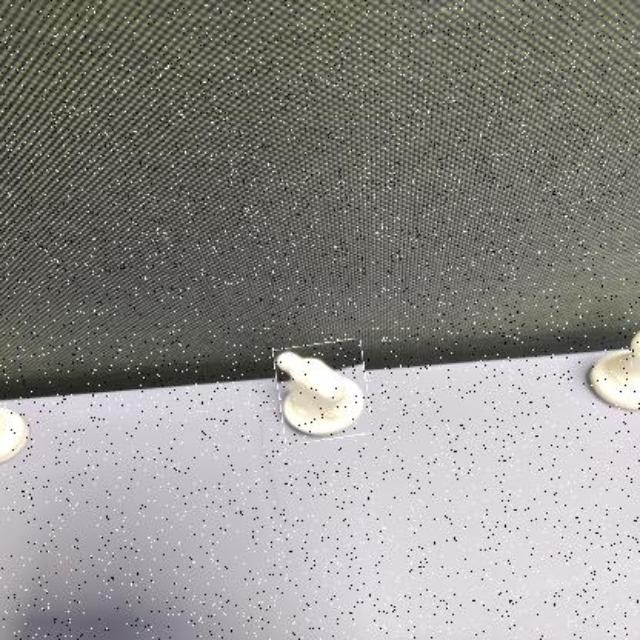white-knight: (275, 342, 368, 442)
